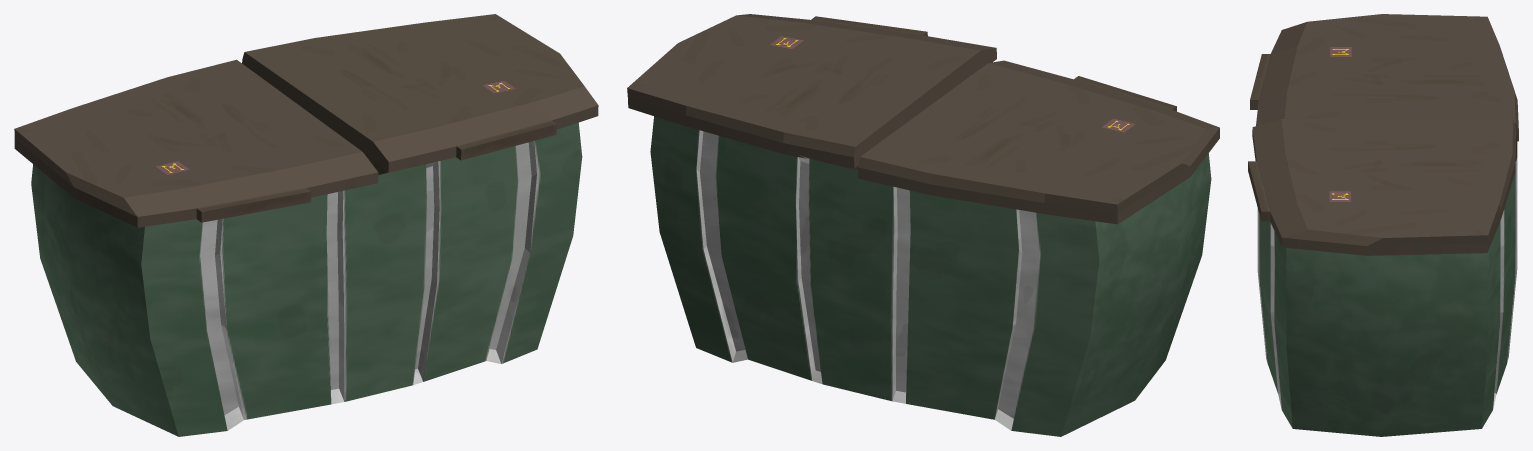
The model's file is dumpster .fbx.
3 renders of one model, left to right at view 1: azimuth 30°, elevation 25°; view 2: azimuth 150°, elevation 25°; view 3: azimuth 270°, elevation 25°, orthographic. The views are drawn at different scales.
Parts seen in each view (by area): view 1: pCube5; view 2: pCube5; view 3: pCube5.
Boxes of the visible parts, bbox=[...] form: pCube5: bbox=[14, 14, 598, 436]; pCube5: bbox=[627, 14, 1219, 436]; pCube5: bbox=[1248, 14, 1518, 436].
Size of the model in its own units: 19.19 by 9.41 by 9.9.
